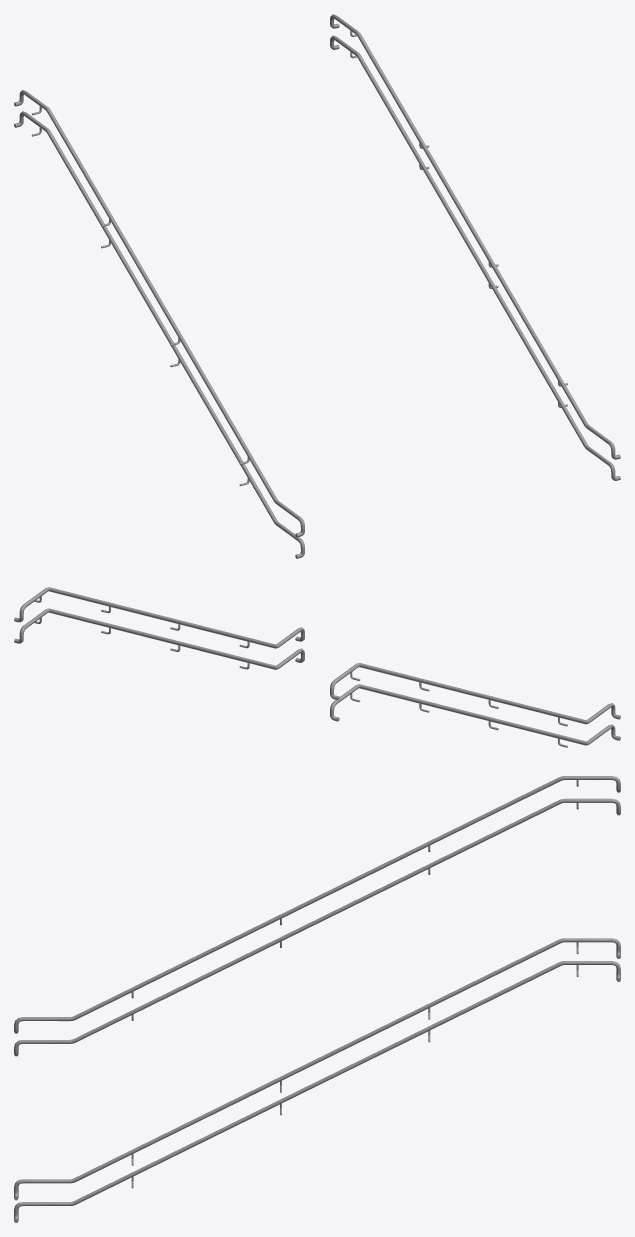
Rendered from gteki_ik_stair_n13_r163_t300_w3008_rails_wall.glb.
3 views of the same model, one above another, from view 1: azimuth 30°, elevation 25°; view 2: azimuth 150°, elevation 25°; view 3: azimuth 270°, elevation 25° (orthographic). The views are drawn at different scales.
Parts seen in each view (by area): view 1: VIS_handrails; view 2: VIS_handrails, VIS_rail_supports; view 3: VIS_handrails.
Boxes of the visible parts, x1,y1,x2,y2 form: VIS_handrails: [14, 14, 620, 558]; VIS_handrails: [14, 587, 620, 745]; VIS_rail_supports: [34, 596, 567, 747]; VIS_handrails: [14, 776, 620, 1222].
Bounding box in the file's own units: 3.23 × 2.47 × 4.84.
Materials: 1 (1 with a texture image).
